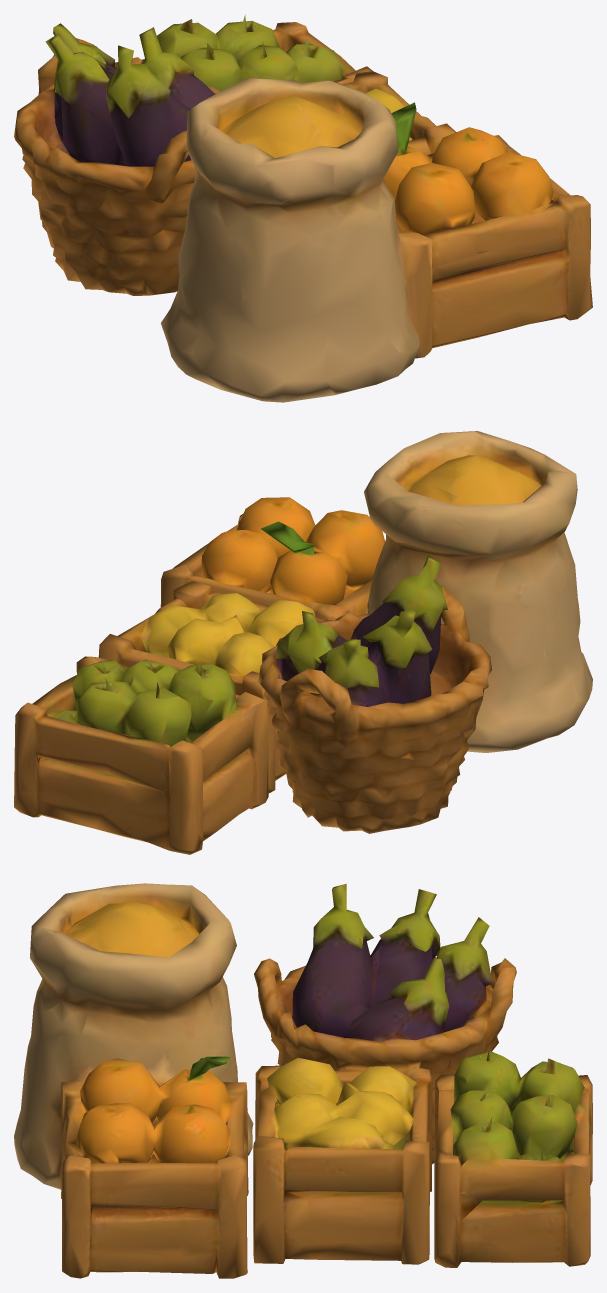
The model's file is crates.glb.
3 views of the same model, one above another, from view 1: azimuth 30°, elevation 25°; view 2: azimuth 150°, elevation 25°; view 3: azimuth 270°, elevation 25° (orthographic). The views are drawn at different scales.
Parts seen in each view (by area): view 1: tripo_node_aed2fc72-935c-45bf-9c12-941979001fcb; view 2: tripo_node_aed2fc72-935c-45bf-9c12-941979001fcb; view 3: tripo_node_aed2fc72-935c-45bf-9c12-941979001fcb.
Boxes of the visible parts, bbox=[...] form: tripo_node_aed2fc72-935c-45bf-9c12-941979001fcb: bbox=[14, 14, 592, 402]; tripo_node_aed2fc72-935c-45bf-9c12-941979001fcb: bbox=[14, 431, 592, 854]; tripo_node_aed2fc72-935c-45bf-9c12-941979001fcb: bbox=[14, 883, 592, 1278].
Size of the model in its own units: 0.7804 by 0.4715 by 1.
1 material, 1 textured.
